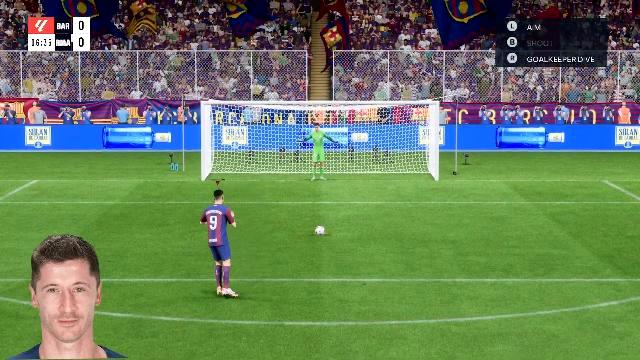bottom-left: (208, 148, 288, 180)
bottom-right: (356, 148, 434, 180)
center-down: (280, 148, 356, 180)
center-up: (274, 104, 354, 144)
football: (314, 227, 326, 235)
goalkeeper: (296, 122, 344, 180)
player: (196, 193, 238, 301)
top-left: (207, 104, 280, 146)
top-right: (350, 104, 436, 146)
